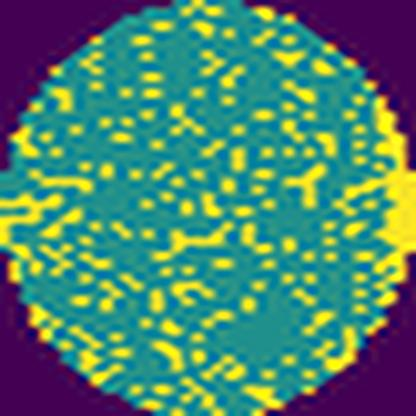Edge-Loc: (368, 97, 416, 314)
